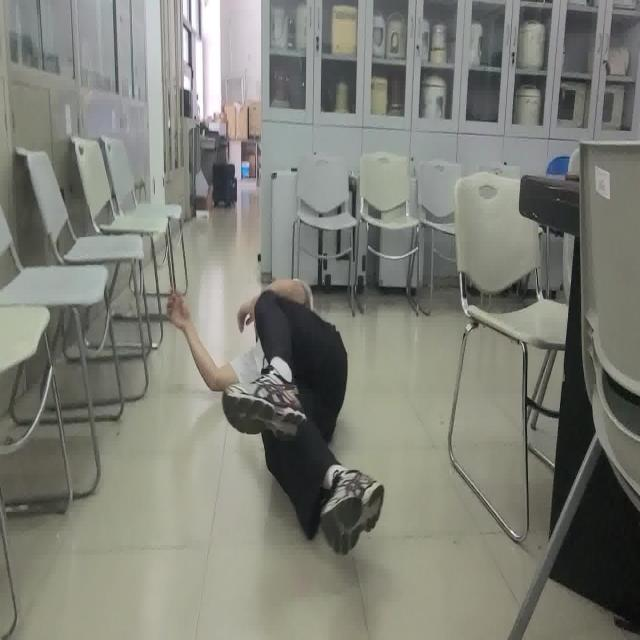Fall-Detected: (165, 276, 384, 561)
